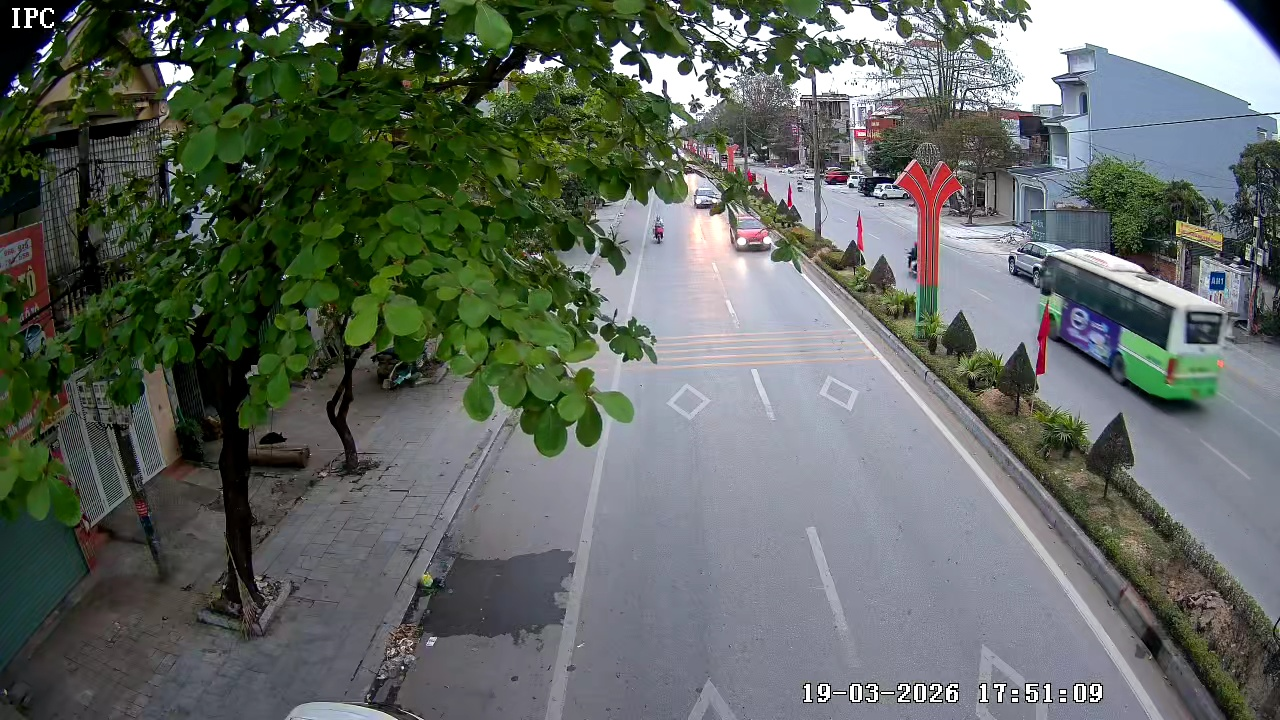bus: (1040, 243, 1226, 406)
car: (729, 216, 768, 252), (691, 180, 723, 209)
motorbike: (649, 209, 666, 245)
